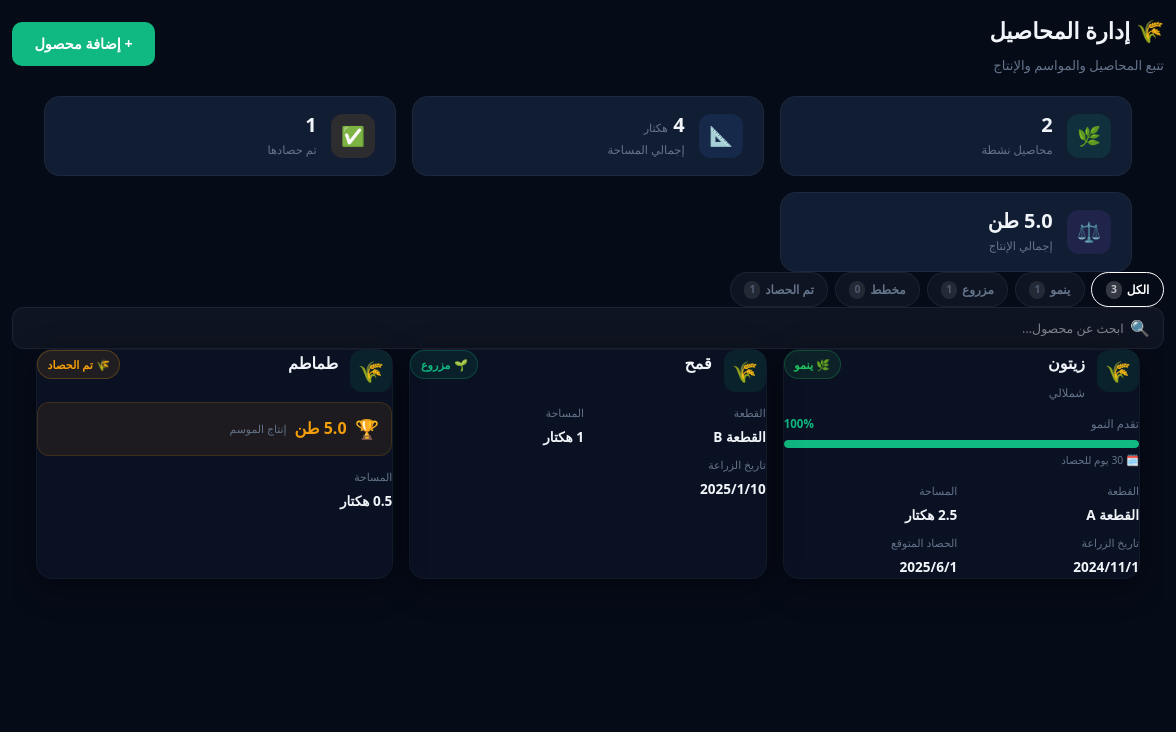
Test: ClientCrops › filters crops by status
// Click the "harvested" filter — find the button specifically
Click the button "تم الحصاد 1" at (779, 290), box x1=730 y1=272 x2=828 y2=308
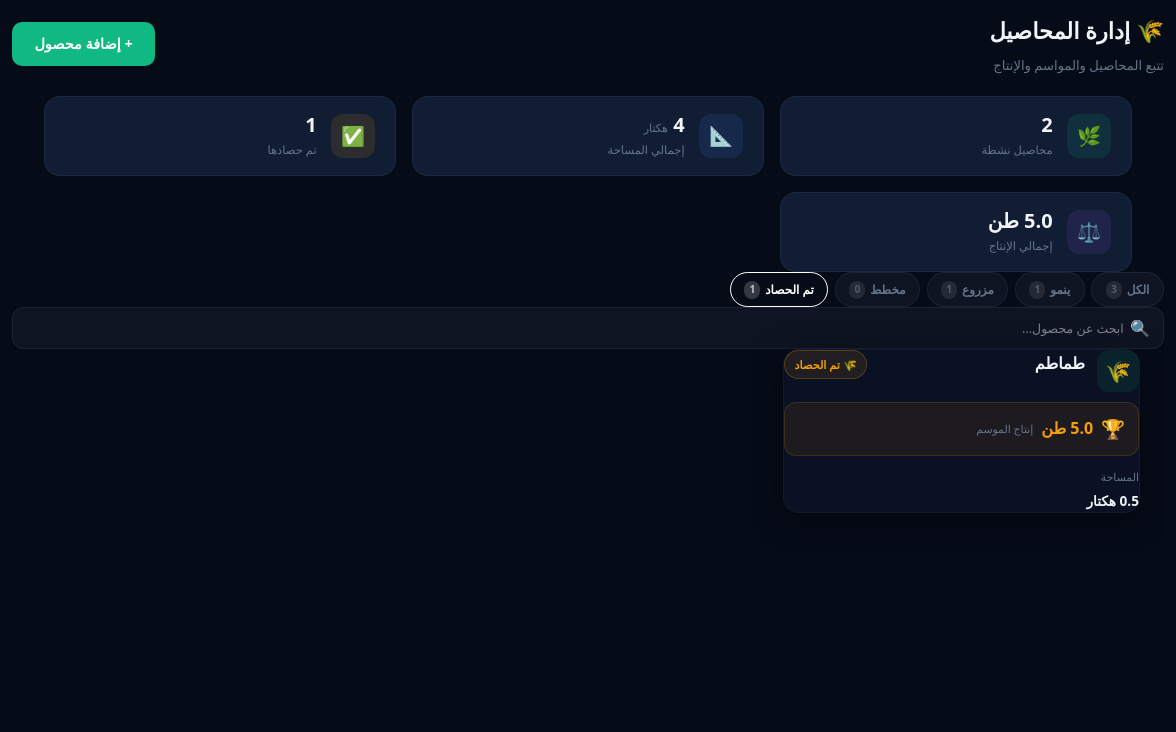
Check: the heading "طماطم" is shown, box x1=1035 y1=352 x2=1085 y2=374
Check: the link "زيتون" is gone
